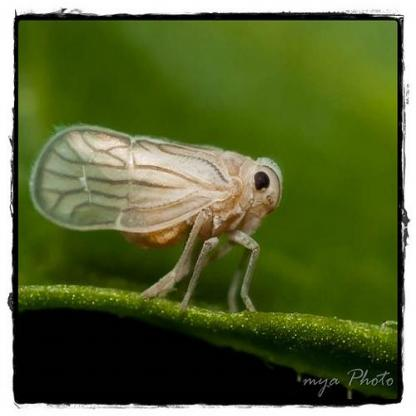Green-Leafhopper: (25, 117, 292, 316)
